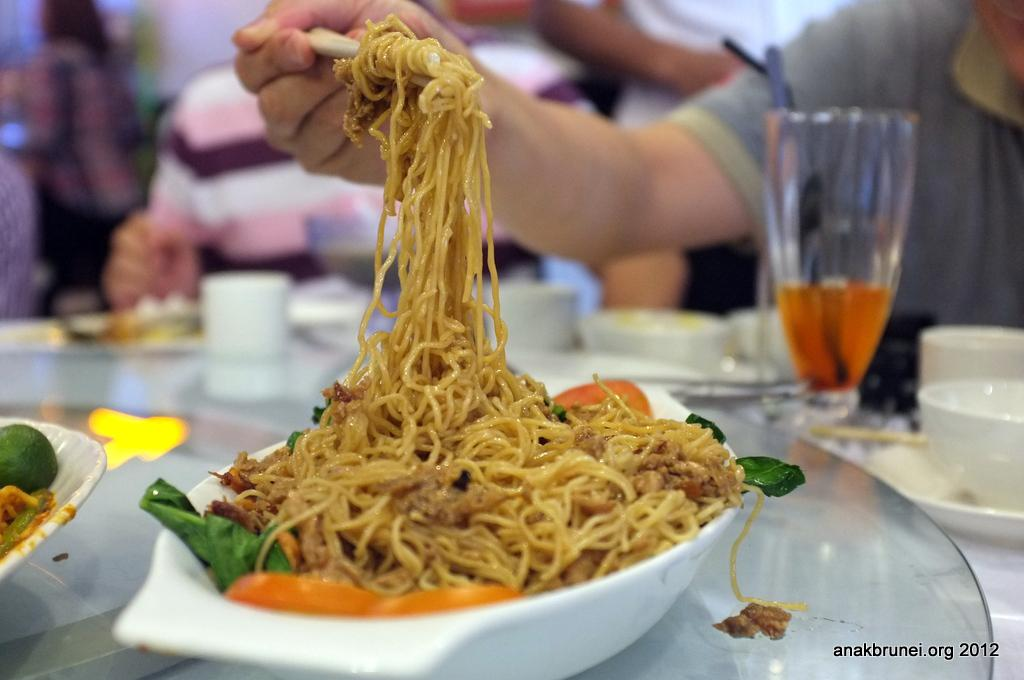Beer: (780, 273, 896, 392)
